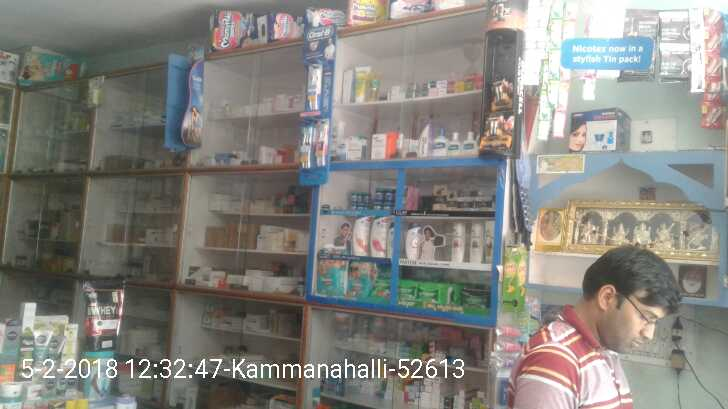beauty: (353, 211, 370, 258), (447, 221, 466, 263), (370, 214, 387, 258), (469, 217, 484, 265), (443, 198, 491, 211), (432, 181, 448, 197)
pharmacy: (316, 258, 346, 298), (346, 261, 372, 298), (297, 123, 315, 172), (306, 62, 321, 110), (415, 284, 445, 306), (315, 125, 327, 169), (395, 280, 418, 300), (351, 191, 371, 202), (375, 187, 384, 201), (384, 189, 393, 201)
